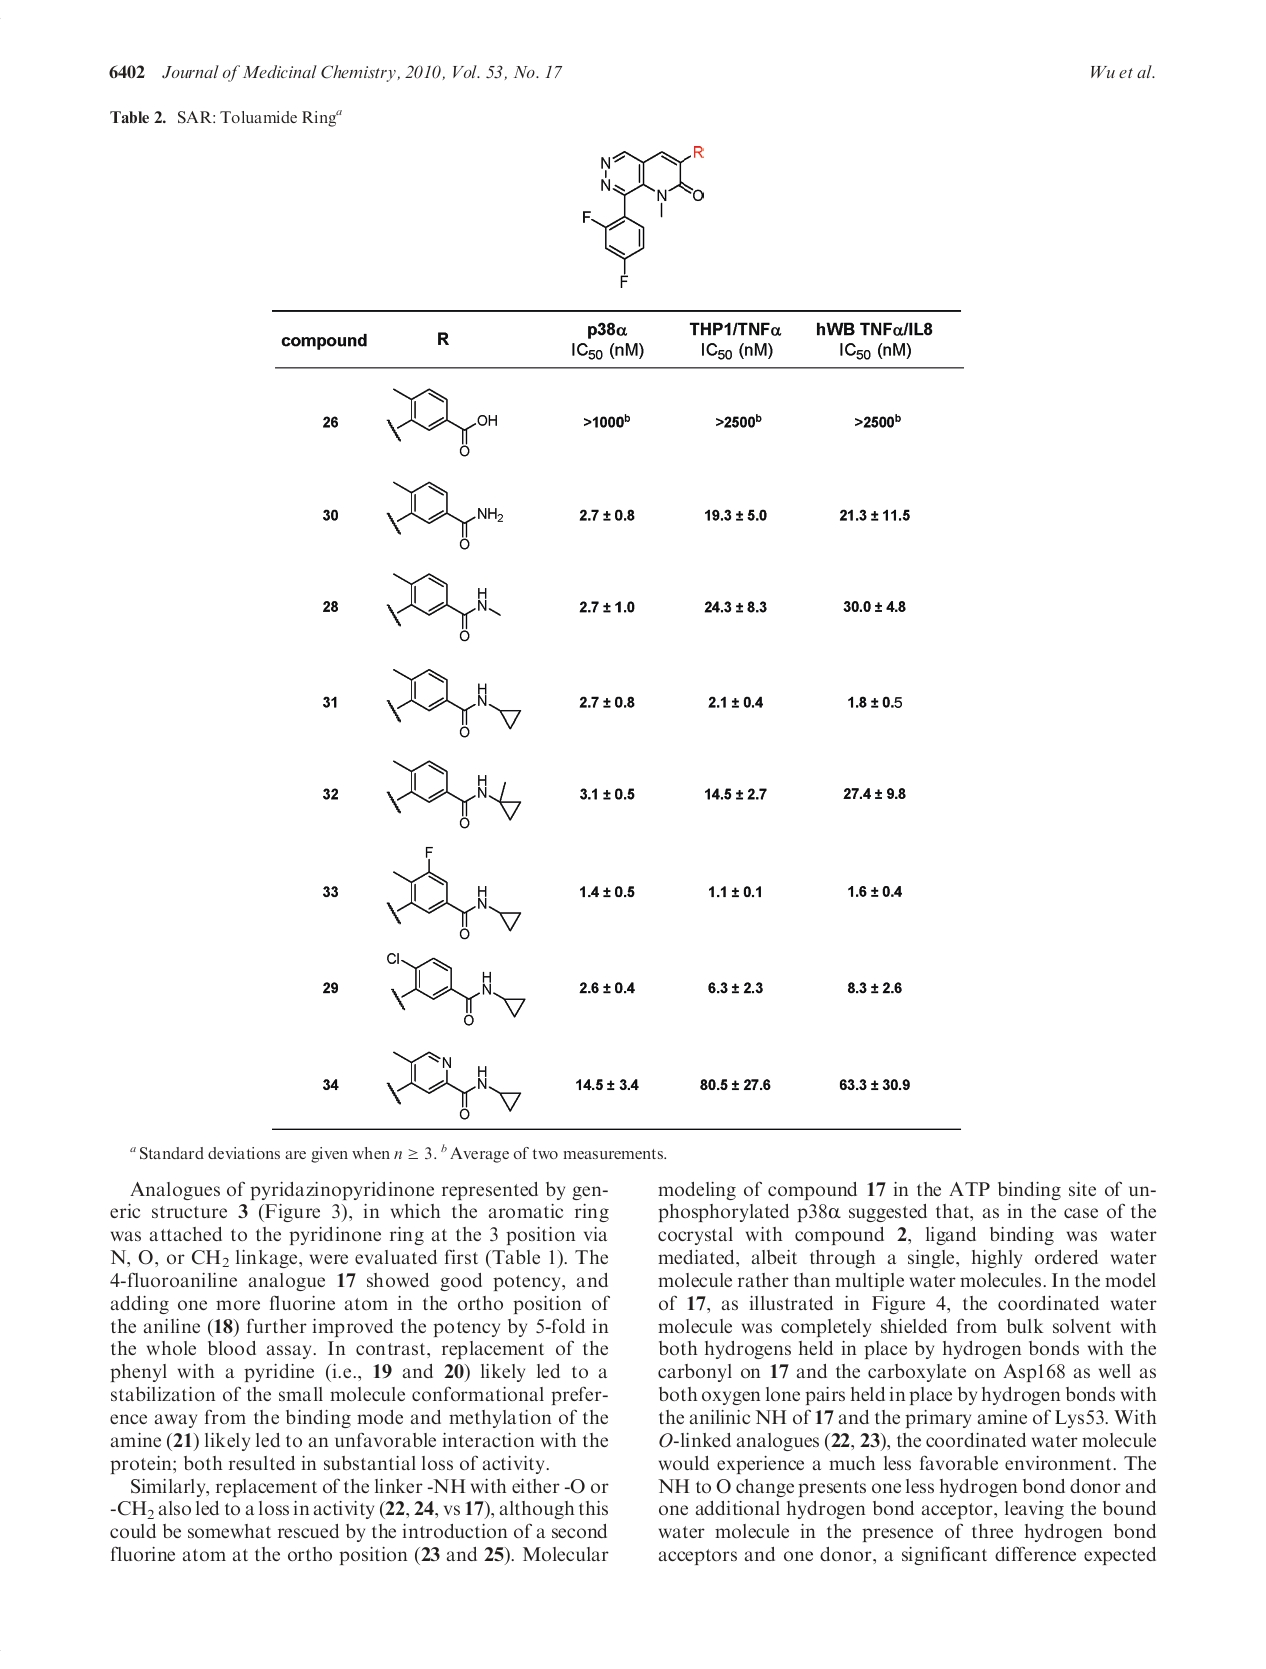exist_molecular: (580, 141, 707, 287), (384, 844, 523, 942), (384, 950, 527, 1027), (386, 664, 523, 739), (386, 755, 523, 830), (386, 1048, 523, 1121), (384, 479, 505, 551), (386, 569, 501, 644), (387, 384, 500, 457)
